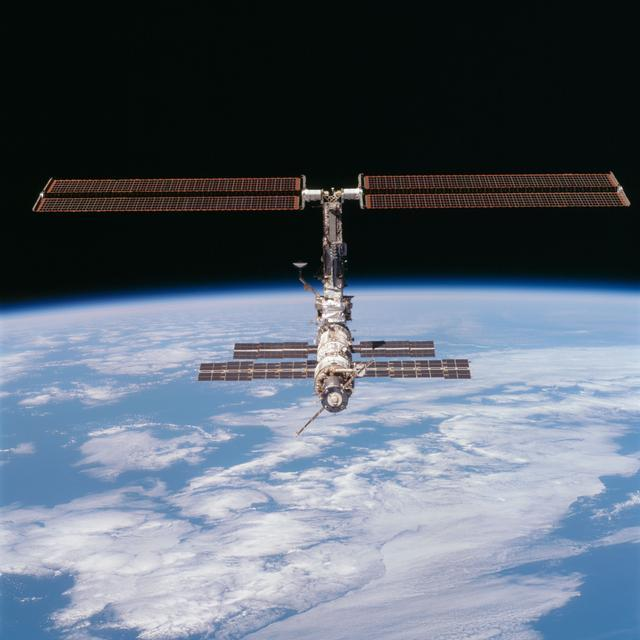satellite: (35, 172, 629, 433)
